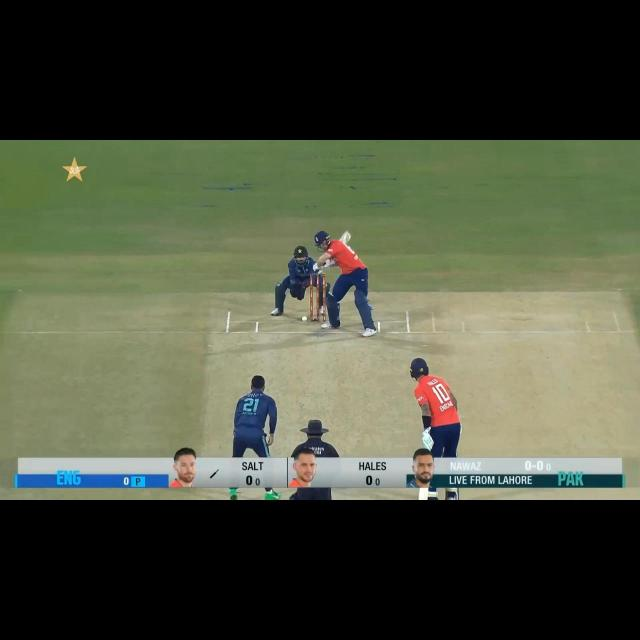bat: (417, 486, 428, 501), (340, 231, 352, 244)
toe: (344, 230, 352, 240)
